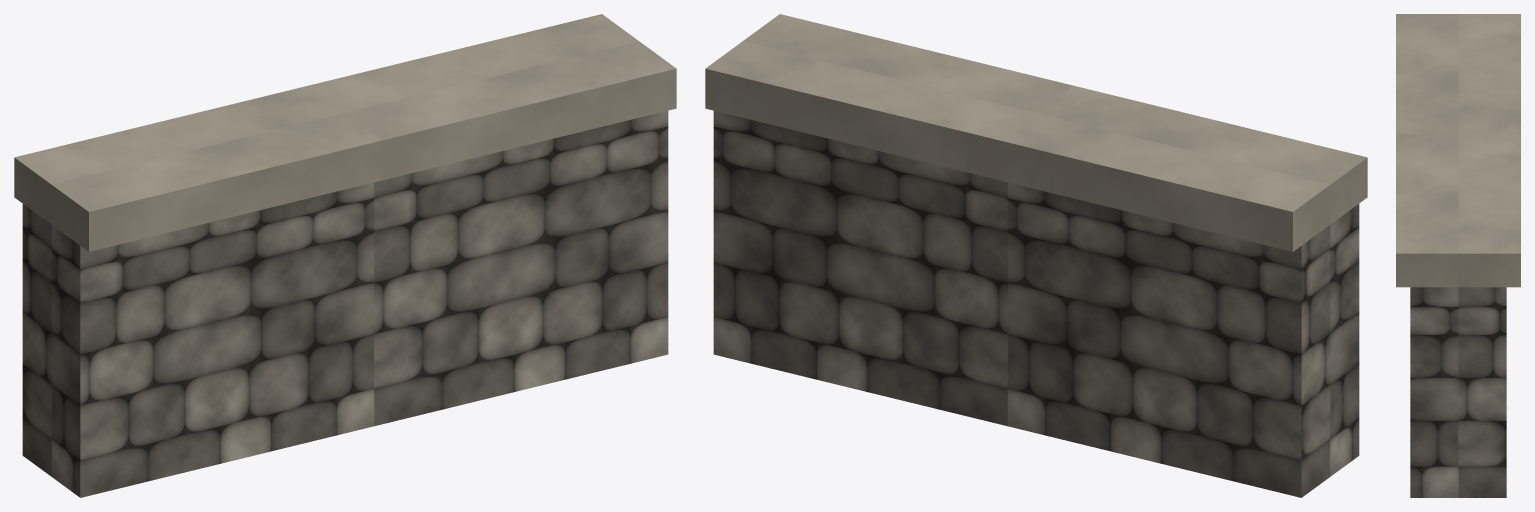
The model's file is Bridge_Stone_Parapet_1.gltf.
3 renders of one model, left to right at view 1: azimuth 30°, elevation 25°; view 2: azimuth 150°, elevation 25°; view 3: azimuth 270°, elevation 25°, orthographic. The views are drawn at different scales.
Visible parts, largest first — view 1: Bridge_Stone_Parapet_1; view 2: Bridge_Stone_Parapet_1; view 3: Bridge_Stone_Parapet_1.
Boxes of the visible parts, x1,y1,x2,y2 form: Bridge_Stone_Parapet_1: (14,14,676,497); Bridge_Stone_Parapet_1: (705,14,1367,497); Bridge_Stone_Parapet_1: (1396,14,1520,497).
Bounding box in the file's own units: 2 × 0.95 × 0.44.
Materials: 2 (2 with a texture image).
